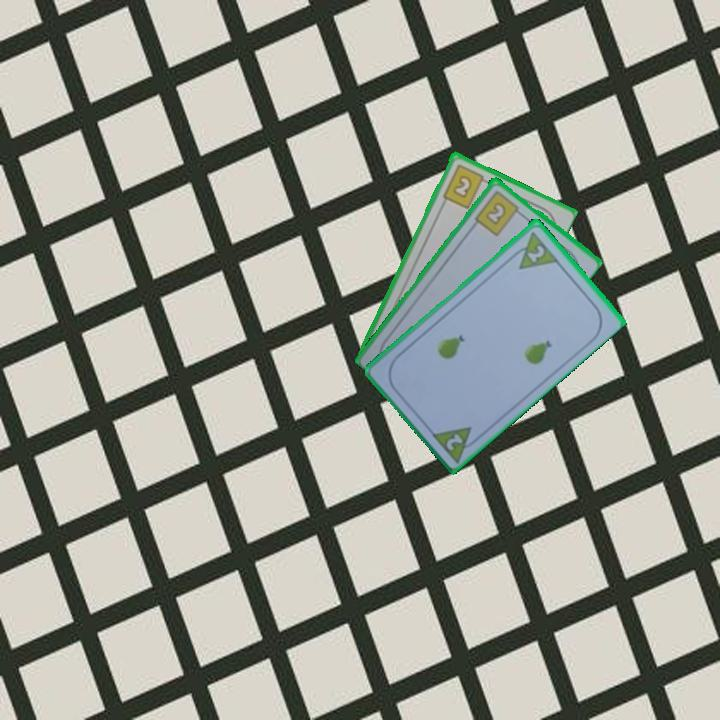2b: (471, 186, 525, 238), (439, 160, 491, 211)
2p: (507, 227, 560, 272), (442, 429, 466, 453)
